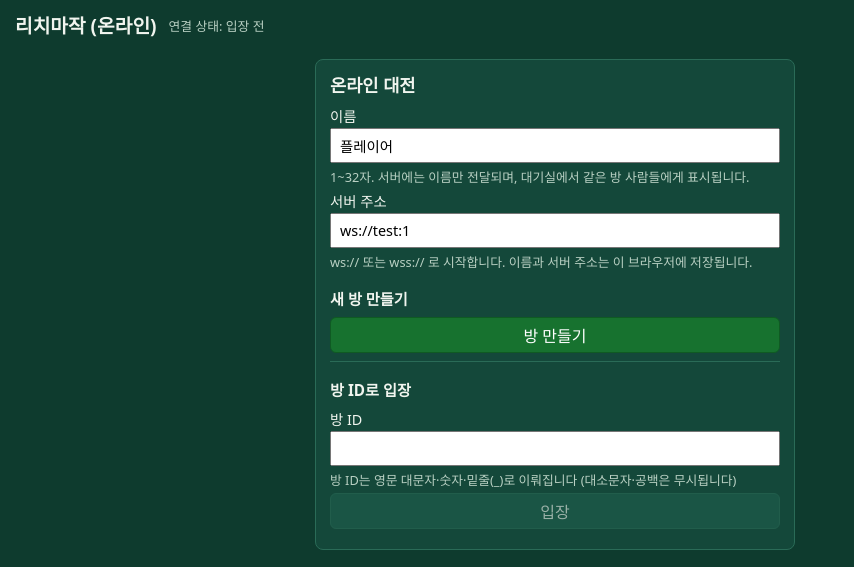
Test: App: 연결 UX 화면 › notice는 고정 영역에 뜨고, timeout은 닫기가 있고 auto_mode는 해제 방법을 안내하며 닫기가 없다
Click the button "방 만들기" at x=555, y=335, box top-left (330, 317), bottom-right (780, 353)
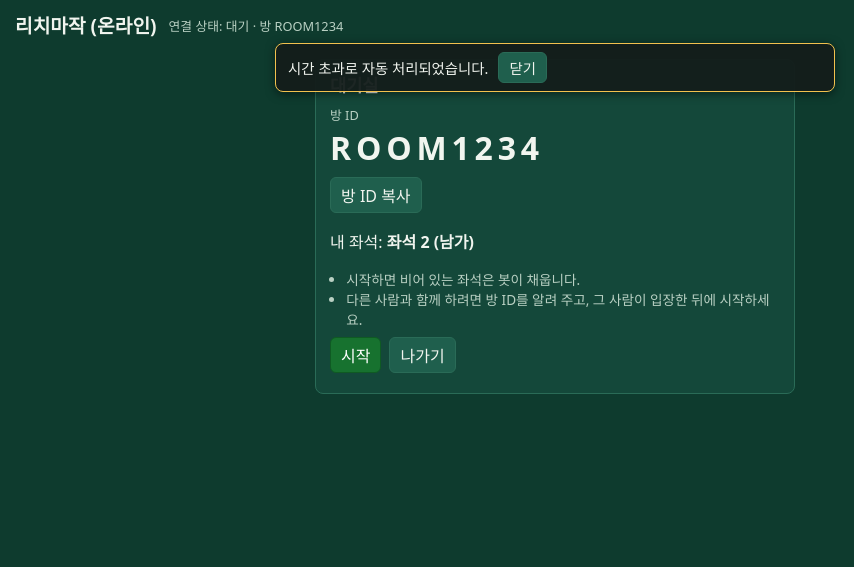
Expected: the message with test id "notice" shows "시간 초과로 자동 처리되었습니다.", top-left (288, 59), bottom-right (488, 78)
Expected: the element with test id "notice" is shown, top-left (275, 43), bottom-right (835, 92)
Click the button "닫기" at x=523, y=68, box top-left (498, 52), bottom-right (547, 83)
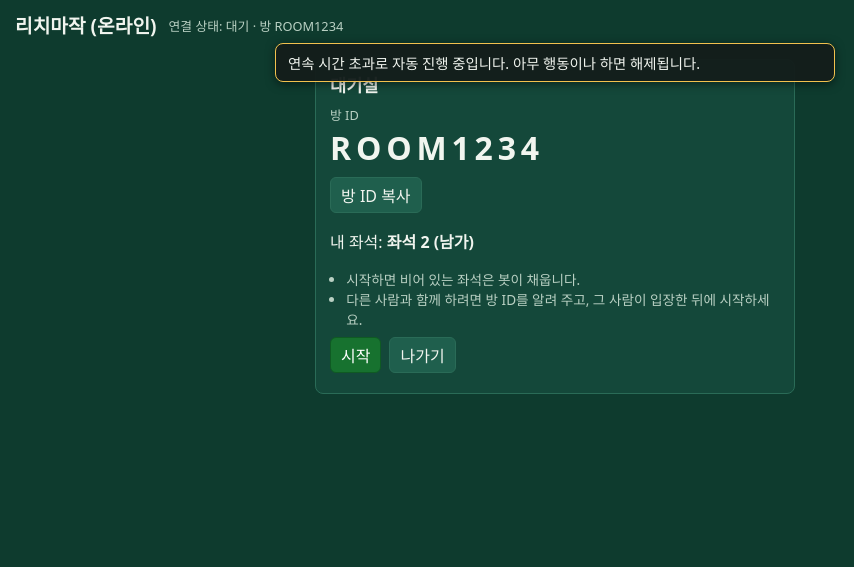
Expected: the message with test id "notice" shows "아무 행동이나 하면 해제", top-left (288, 54), bottom-right (700, 73)
Expected: the button "닫기" is gone
